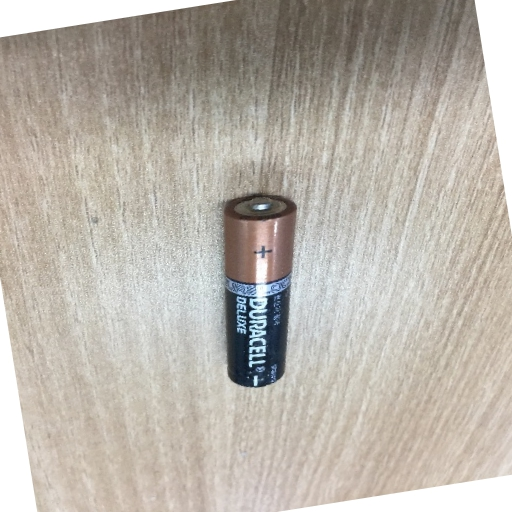Battery_0: (213, 175, 304, 398)
